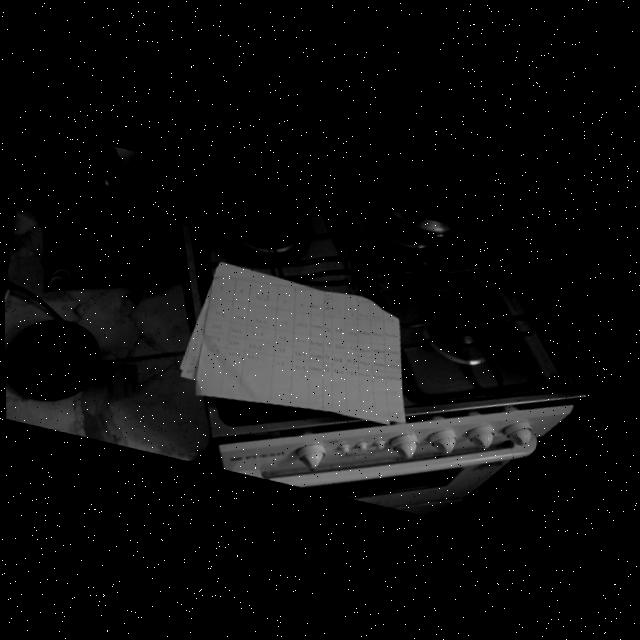document: (181, 263, 405, 423)
